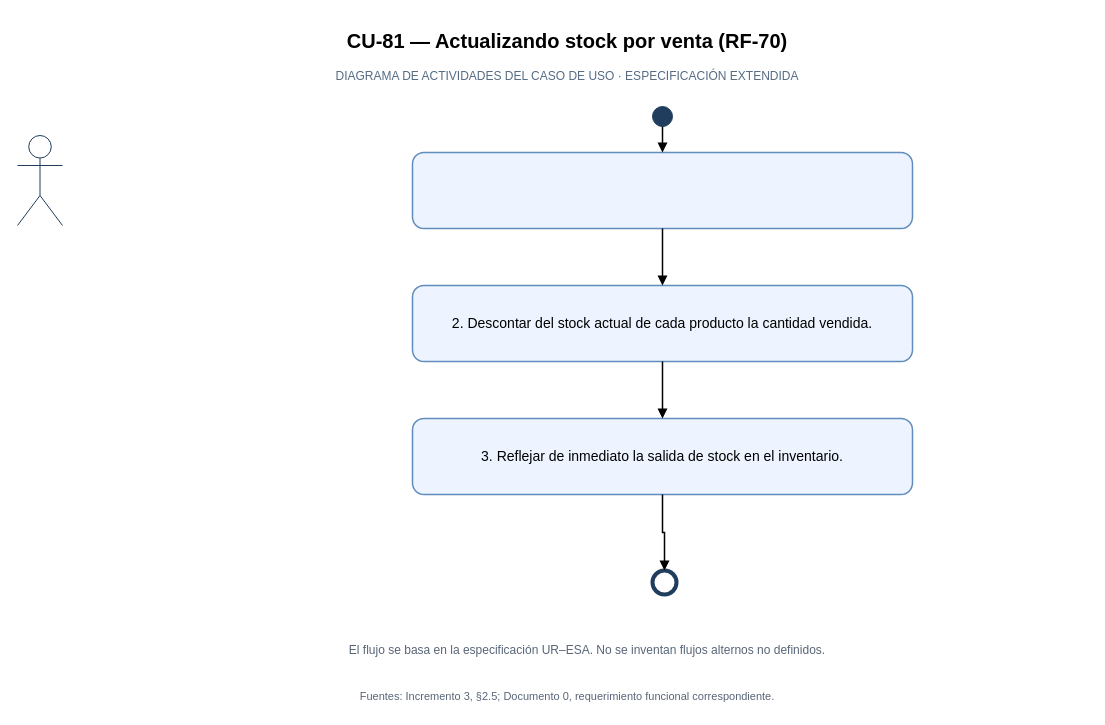
Some shapes in this 1105 by 725 pixel diagram are drawn without their labels. Each missing label, with the centre of its shape:
1. Obtener los productos y cantidades de la venta confirmada.: the point at 662,190
Cajero: the point at 39,180
